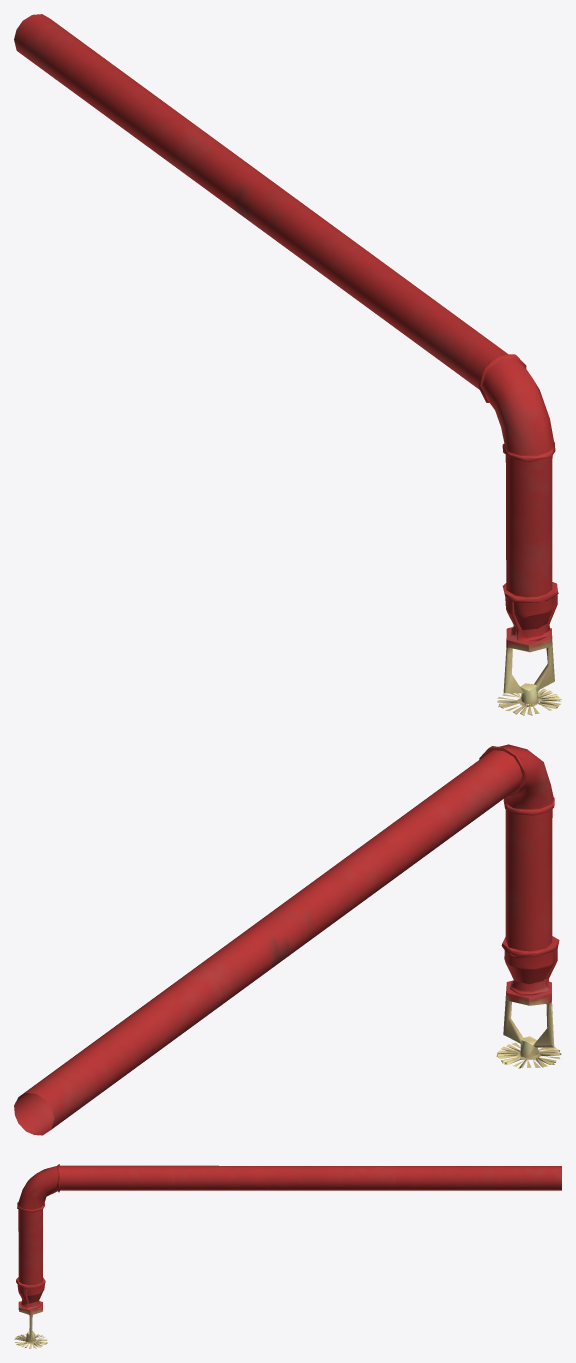
The model's file is SM_Overhead_Utilities04.fbx.
3 renders of one model, top to bottom at view 1: azimuth 30°, elevation 25°; view 2: azimuth 150°, elevation 25°; view 3: azimuth 270°, elevation 25°, orthographic. The views are drawn at different scales.
Visible parts, largest first — view 1: SM_Overhead_Utilities04_LOD0; view 2: SM_Overhead_Utilities04_LOD0; view 3: SM_Overhead_Utilities04_LOD0.
Part boxes in pixels (left/top/right/bottom): SM_Overhead_Utilities04_LOD0: left=14, top=14, right=561, bottom=715; SM_Overhead_Utilities04_LOD0: left=14, top=744, right=561, bottom=1135; SM_Overhead_Utilities04_LOD0: left=14, top=1164, right=561, bottom=1348.
Bounding box in the file's own units: 5.19 × 81.36 × 28.93.
